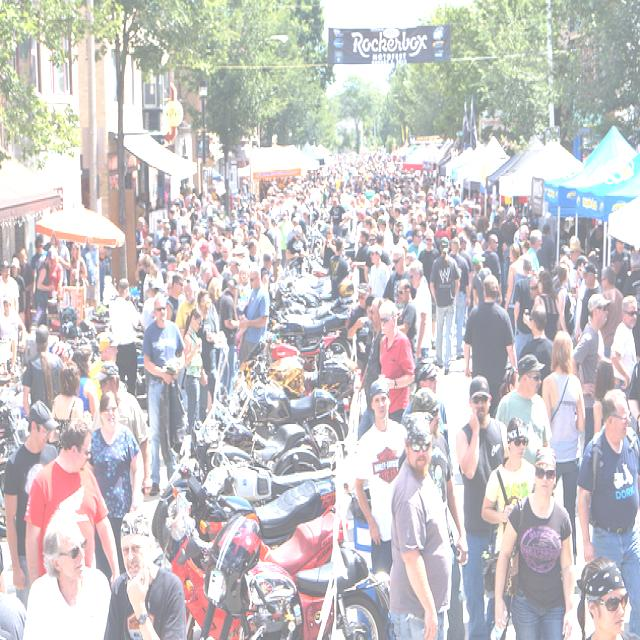Vehicle: (149, 466, 345, 632), (193, 513, 388, 640), (174, 328, 320, 478), (229, 367, 345, 469), (249, 343, 355, 439), (204, 432, 332, 510), (268, 334, 354, 378), (268, 305, 350, 346), (273, 288, 346, 318)
